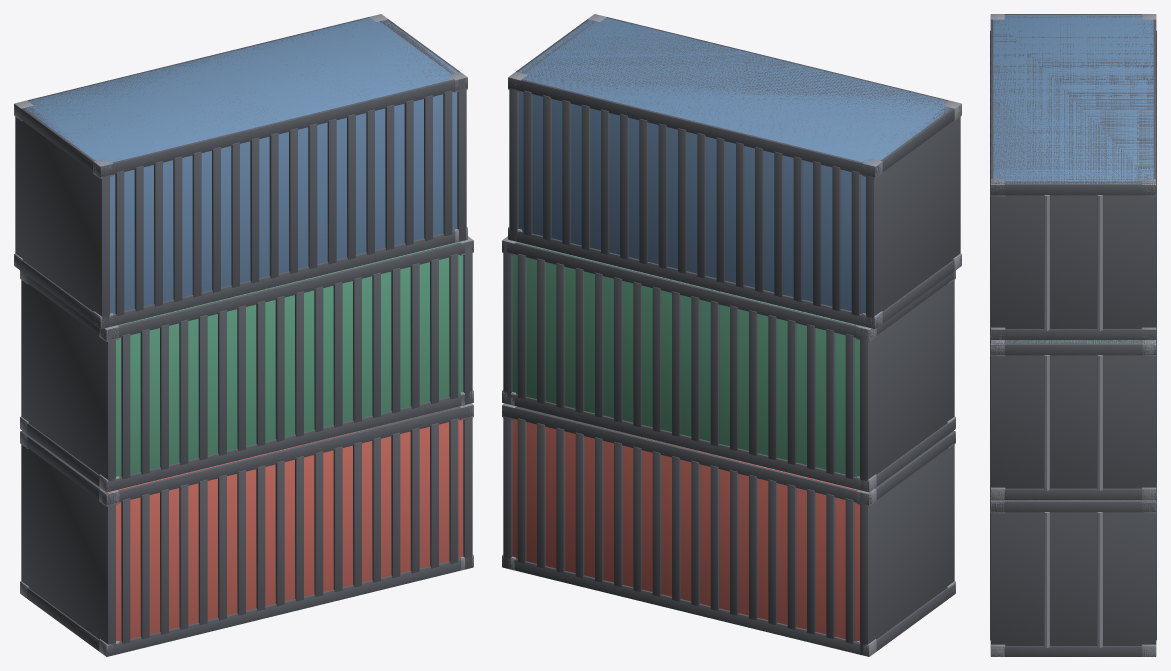
The model's file is th45_container.glb.
3 renders of one model, left to right at view 1: azimuth 30°, elevation 25°; view 2: azimuth 150°, elevation 25°; view 3: azimuth 270°, elevation 25°, orthographic. The views are drawn at different scales.
Visible parts, largest first — view 1: Cube.100, Cube.050, Cube, Cube.139, Cube.039, Cube.089, Cube.138, Cube.038, Cube.137, Cube.088, Cube.087, Cube.037 (+57 smaller); view 2: Cube.100, Cube.050, Cube, Cube.138, Cube.139, Cube.039, Cube.089, Cube.038, Cube.088, Cube.087, Cube.037, Cube.137 (+57 smaller); view 3: Cube.100, Cube.144, Cube.094, Cube.044, Cube.138, Cube.088, Cube.038, Cube.087, Cube.137, Cube.037, Cylinder, Cylinder.001 (+5 smaller).
Boxes of the visible parts, x1,y1,x2,y2 form: Cube.100: (25, 18, 457, 313); Cube.050: (116, 242, 463, 476); Cube: (107, 407, 463, 641); Cube.139: (15, 106, 109, 328); Cube.039: (21, 444, 115, 647); Cube.089: (21, 280, 115, 481); Cube.138: (14, 17, 467, 177); Cube.038: (20, 405, 473, 504); Cube.137: (14, 229, 467, 328); Cube.088: (27, 240, 473, 340); Cube.087: (27, 392, 473, 492); Cube.037: (27, 557, 473, 656); Cube.100: (518, 18, 950, 313); Cube.050: (512, 242, 859, 476); Cube: (512, 415, 868, 641); Cube.138: (508, 17, 961, 177); Cube.139: (866, 107, 960, 328); Cube.039: (860, 444, 954, 654); Cube.089: (860, 280, 954, 489); Cube.038: (502, 405, 955, 504); Cube.088: (502, 241, 954, 339); Cube.087: (502, 392, 955, 491); Cube.037: (502, 557, 955, 656); Cube.137: (508, 229, 961, 328); Cube.100: (993, 15, 1153, 183); Cube.144: (990, 180, 1156, 328); Cube.094: (990, 340, 1156, 488); Cube.044: (990, 499, 1156, 645); Cube.138: (990, 14, 1156, 195); Cube.088: (990, 340, 1156, 355); Cube.038: (990, 500, 1156, 512); Cube.087: (990, 488, 1156, 499); Cube.137: (990, 329, 1156, 339); Cube.037: (990, 646, 1156, 656); Cylinder: (1044, 512, 1049, 647); Cylinder.001: (1097, 512, 1102, 647).
Bounding box in the file's own units: 6.25 × 7.83 × 2.52.
